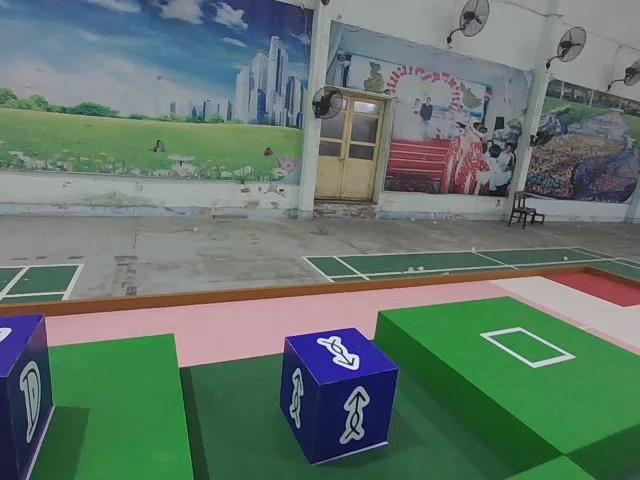R2 Real Blue: (281, 329, 399, 466), (0, 313, 55, 476)
